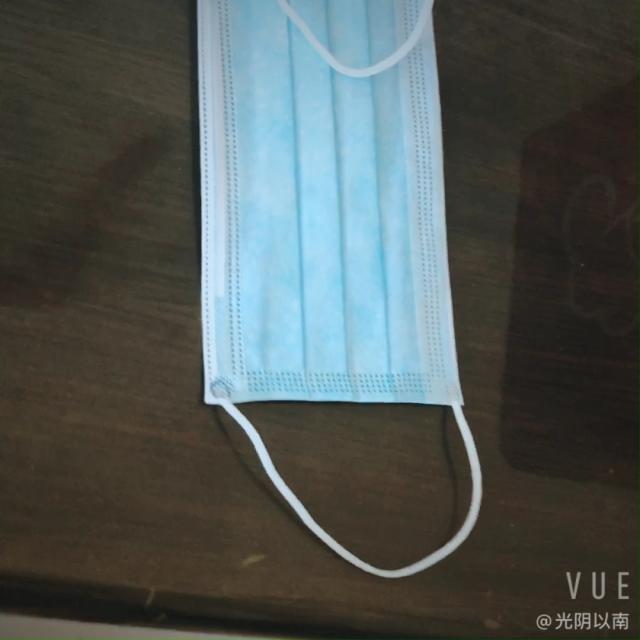non-organic waste: (165, 0, 479, 410)
